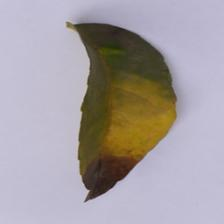black spot: (73, 146, 140, 200)
